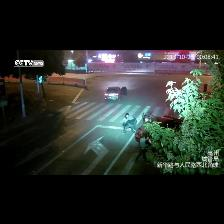person: (135, 136, 150, 161), (123, 114, 137, 133)
